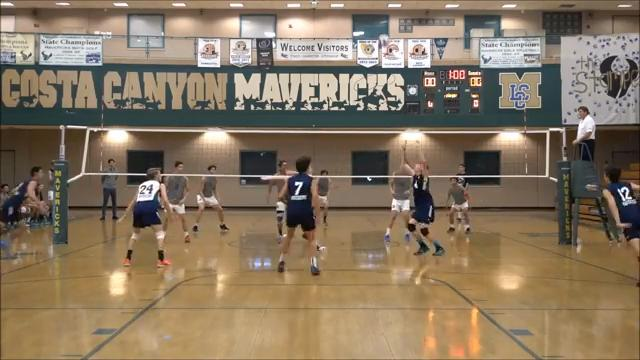Player: (118, 168, 173, 267), (277, 156, 319, 274), (0, 166, 45, 249), (602, 167, 639, 260), (164, 161, 190, 242), (384, 166, 411, 242), (192, 176, 228, 232), (445, 177, 470, 233), (267, 160, 295, 202), (317, 170, 331, 225), (456, 164, 469, 203)
Set: (396, 136, 453, 265)
ball: (378, 34, 390, 48)
